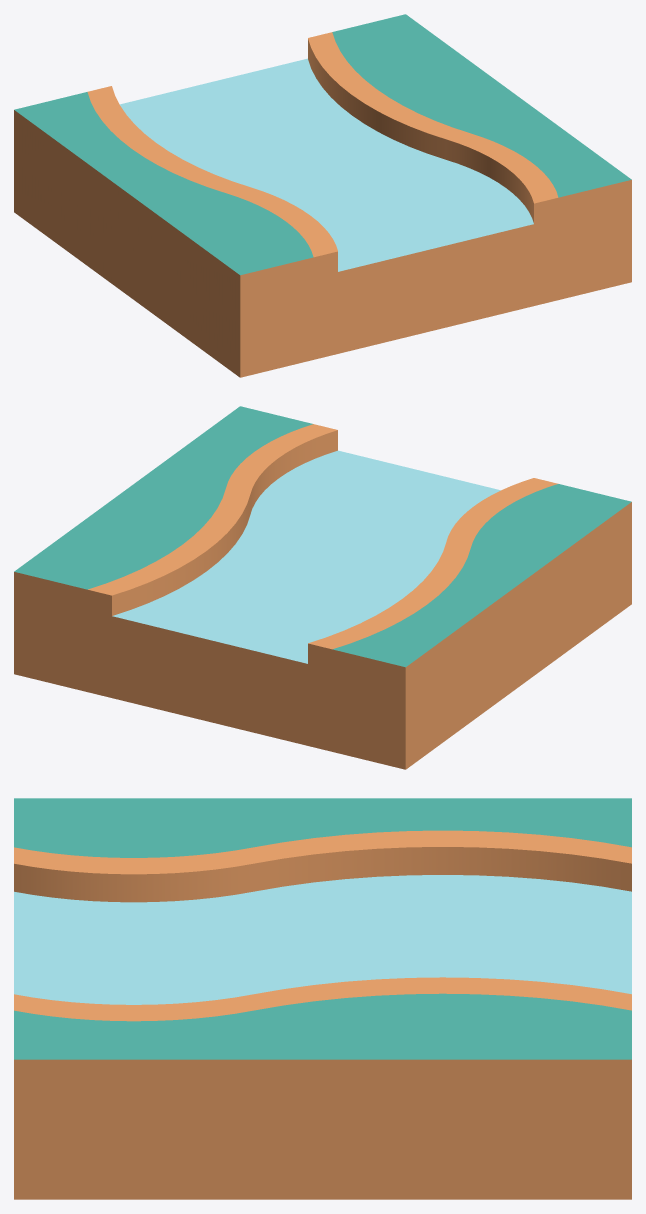
File: ground_river.obj
3 renders of one model, top to bottom at view 1: azimuth 30°, elevation 25°; view 2: azimuth 150°, elevation 25°; view 3: azimuth 270°, elevation 25°, orthographic. The views are drawn at different scales.
Visible parts, largest first — view 1: ground_dirtRiver; view 2: ground_dirtRiver; view 3: ground_dirtRiver.
Boxes of the visible parts, x1=… form: ground_dirtRiver: x1=14, y1=14, x2=631, y2=377; ground_dirtRiver: x1=14, y1=406, x2=631, y2=769; ground_dirtRiver: x1=14, y1=798, x2=631, y2=1199.
Bounding box in the file's own units: 10 × 2.5 × 10.
